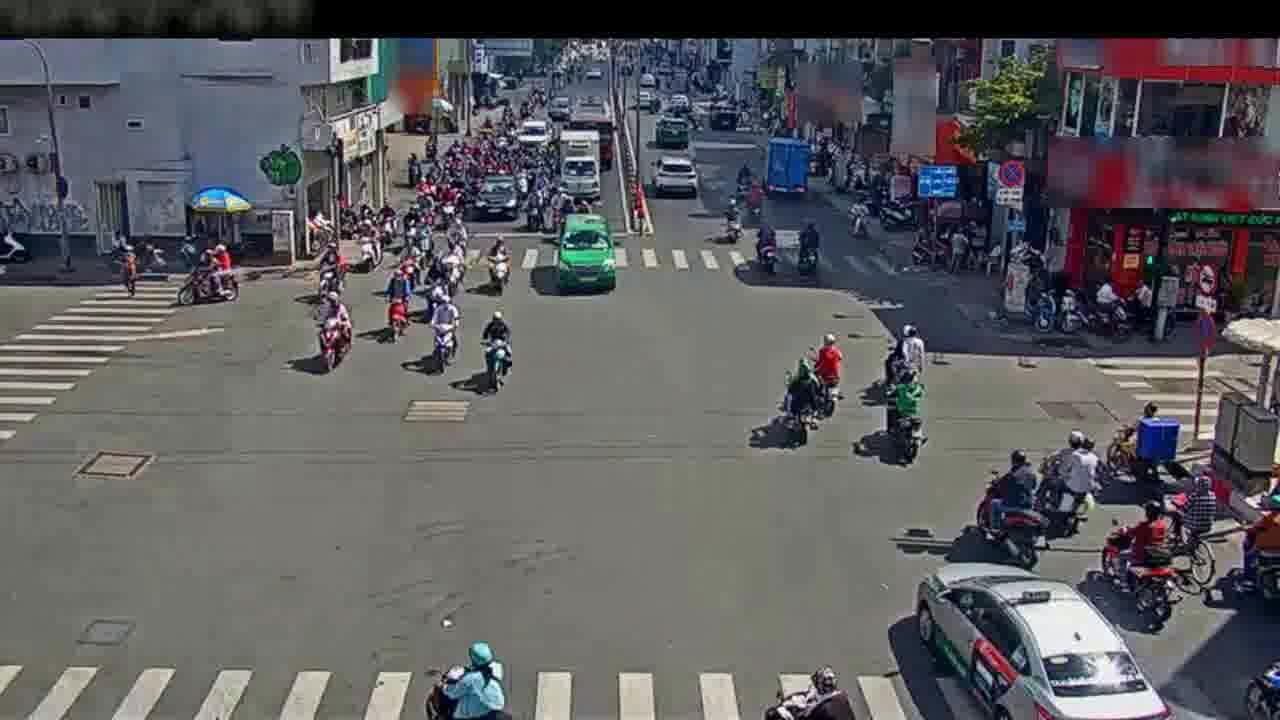8: (547, 120, 606, 210), (765, 141, 805, 205)
container: (914, 559, 1167, 720), (556, 213, 617, 293), (651, 144, 696, 203), (654, 108, 689, 158), (477, 173, 517, 216)
motorbike: (973, 448, 1054, 563), (1106, 502, 1175, 616), (437, 626, 510, 720), (1036, 429, 1094, 543), (1166, 475, 1219, 592), (1109, 401, 1177, 489), (762, 665, 855, 720), (1233, 510, 1273, 614), (182, 244, 244, 309), (887, 365, 923, 468), (778, 360, 822, 438), (885, 320, 920, 404), (480, 309, 512, 400), (1236, 644, 1274, 720), (428, 293, 459, 376), (317, 296, 348, 377), (382, 275, 412, 351), (815, 328, 840, 419), (482, 232, 512, 300), (752, 220, 783, 285), (792, 223, 824, 282), (313, 242, 348, 294), (718, 194, 746, 251), (847, 195, 875, 249), (356, 220, 381, 266), (399, 237, 420, 289), (445, 238, 465, 285), (744, 184, 763, 231), (427, 254, 448, 293), (526, 189, 546, 228), (446, 217, 471, 248)
